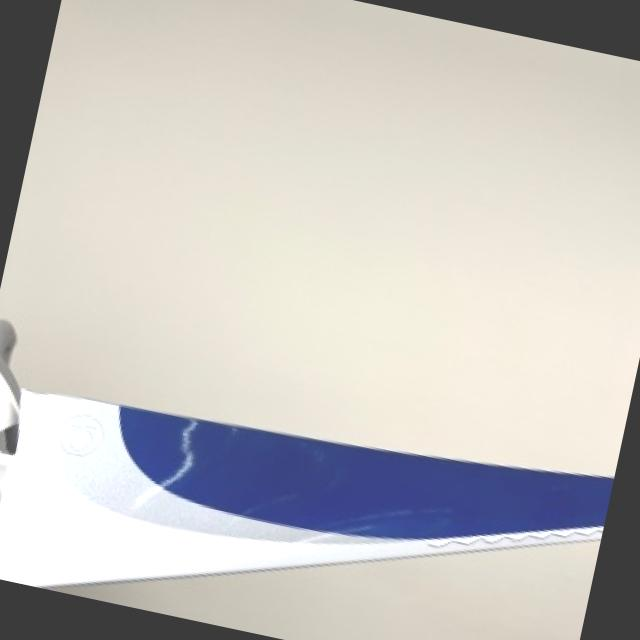healthy: (0, 317, 611, 585)
